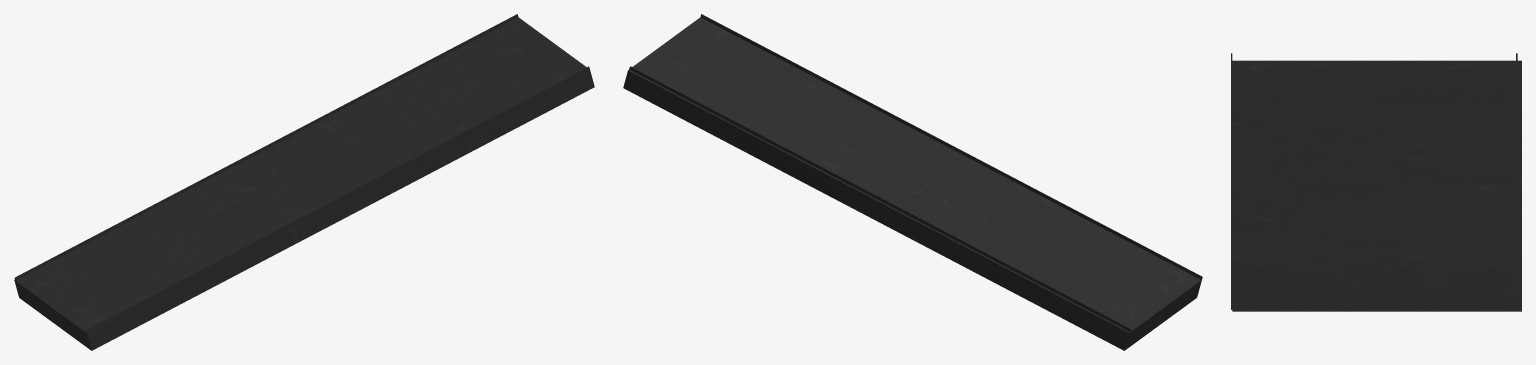
The model's file is Roof 3m high full.fbx.
3 renders of one model, left to right at view 1: azimuth 30°, elevation 25°; view 2: azimuth 150°, elevation 25°; view 3: azimuth 270°, elevation 25°, orthographic. The views are drawn at different scales.
Parts seen in each view (by area): view 1: Model; view 2: Model; view 3: Model.
Boxes of the visible parts, x1,y1,x2,y2 form: Model: [14, 14, 594, 350]; Model: [623, 14, 1202, 350]; Model: [1231, 53, 1521, 311].
Bounding box in the file's own units: 4025 × 1235 × 1000.
